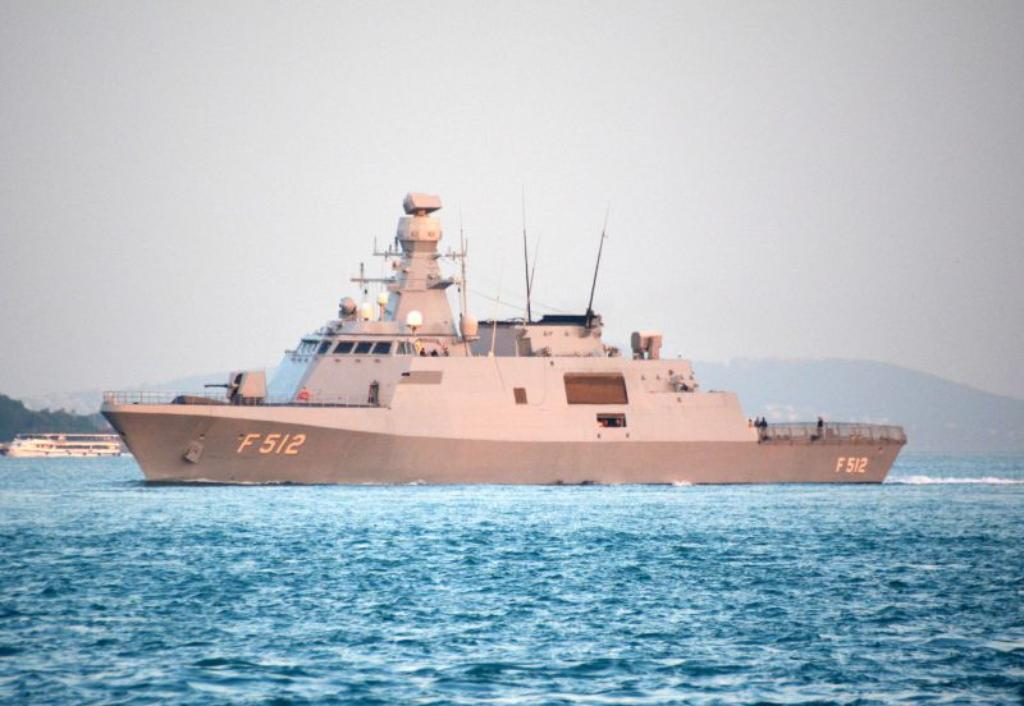Warship: (98, 185, 908, 487)
